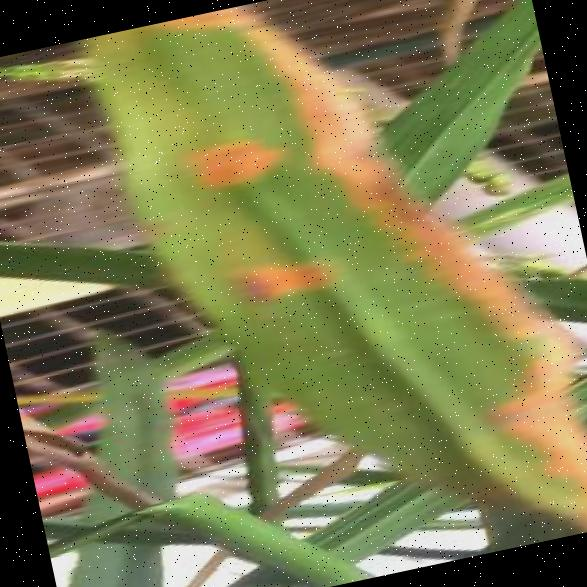Bacteria_Leaf_Blight: (106, 0, 542, 575)
